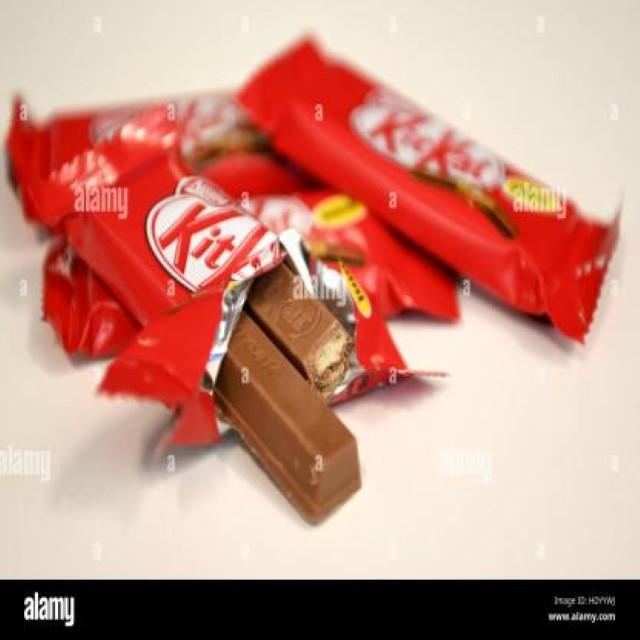kitkat_chocolate: (68, 150, 310, 402)
